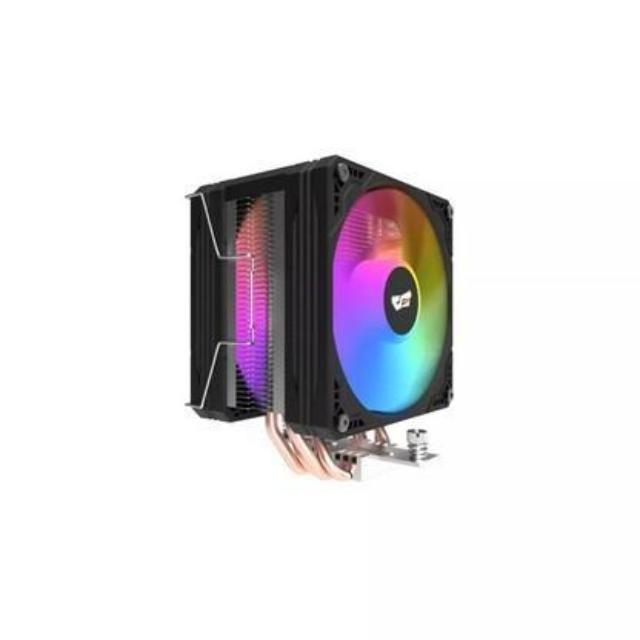CPU_Fan: (185, 155, 457, 487)
